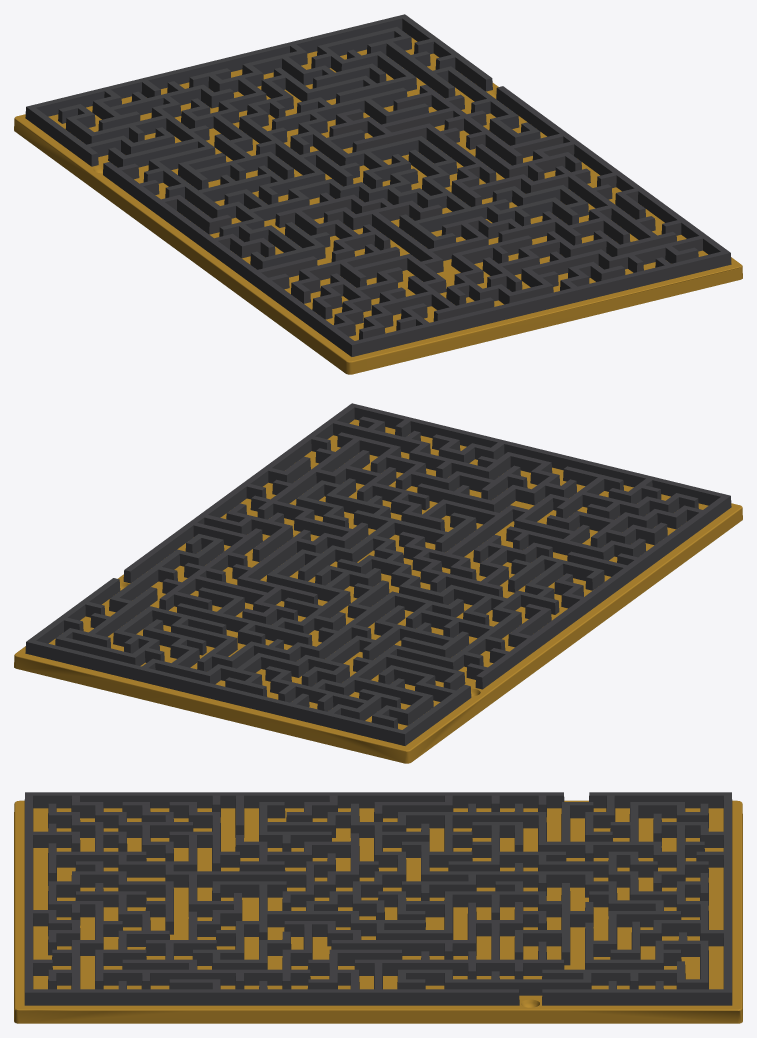
Rendered from laberinto.glb.
The picture shows the model from 3 angles, top to bottom: view 1: azimuth 30°, elevation 25°; view 2: azimuth 150°, elevation 25°; view 3: azimuth 270°, elevation 25°; orthographic projection. The views are drawn at different scales.
Parts seen in each view (by area): view 1: Object_3, Object_2, Object_4; view 2: Object_2, Object_3, Object_4; view 3: Object_3, Object_2, Object_4.
Part boxes in pixels (left/top/right/bottom): Object_3: left=103, top=84, right=731, bottom=356; Object_2: left=25, top=14, right=588, bottom=269; Object_4: left=14, top=37, right=742, bottom=374; Object_2: left=25, top=478, right=604, bottom=745; Object_3: left=123, top=403, right=731, bottom=689; Object_4: left=14, top=419, right=742, bottom=763; Object_3: left=24, top=792, right=564, bottom=1005; Object_2: left=192, top=792, right=732, bottom=1005; Object_4: left=14, top=800, right=742, bottom=1023.
Bounding box in the file's own units: 197 × 11.55 × 289.
